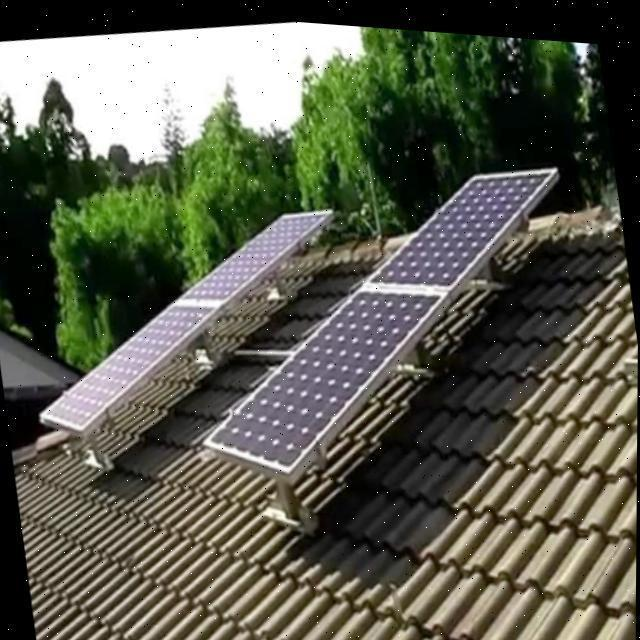Normal Solar Panel: (171, 137, 599, 516), (18, 188, 356, 454)
